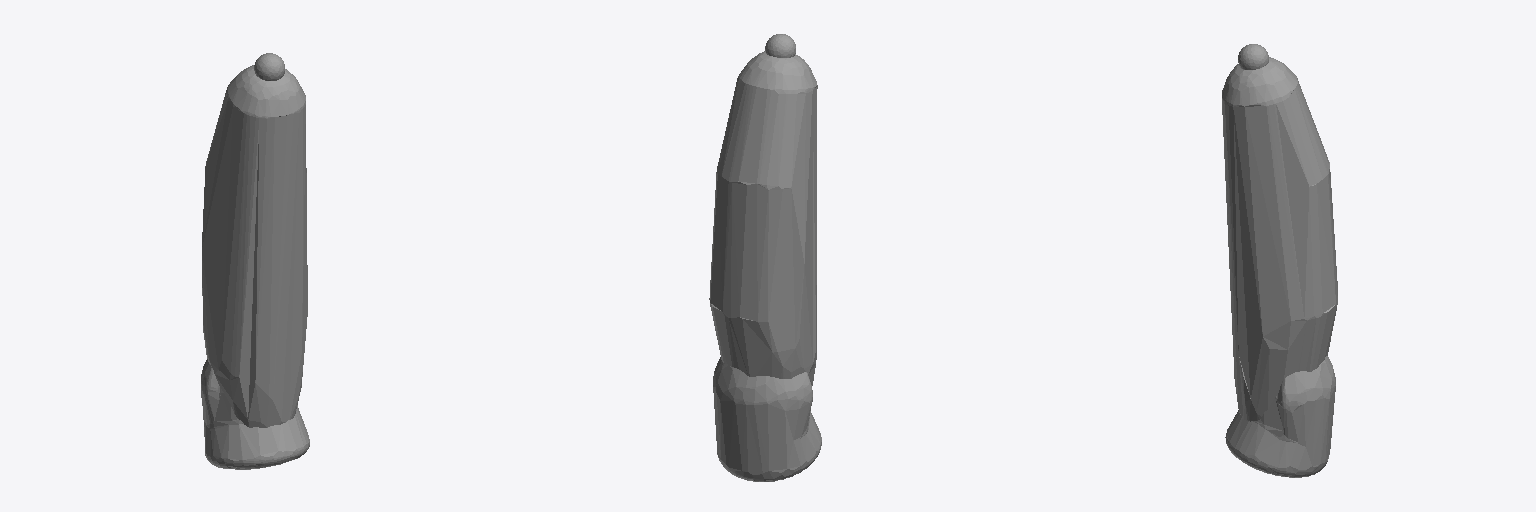
The model's file is upper_leg.obj.
The picture shows the model from 3 angles: view 1: azimuth 30°, elevation 25°; view 2: azimuth 150°, elevation 25°; view 3: azimuth 270°, elevation 25°; orthographic projection.
Parts seen in each view (by area): view 1: upperleg_Cone.001; view 2: upperleg_Cone.001; view 3: upperleg_Cone.001.
Part boxes in pixels (left/top/right/bottom): upperleg_Cone.001: left=201, top=53, right=309, bottom=469; upperleg_Cone.001: left=709, top=34, right=821, bottom=481; upperleg_Cone.001: left=1222, top=44, right=1337, bottom=477.
Bounding box in the file's own units: 0.4855 × 2.07 × 0.5193.